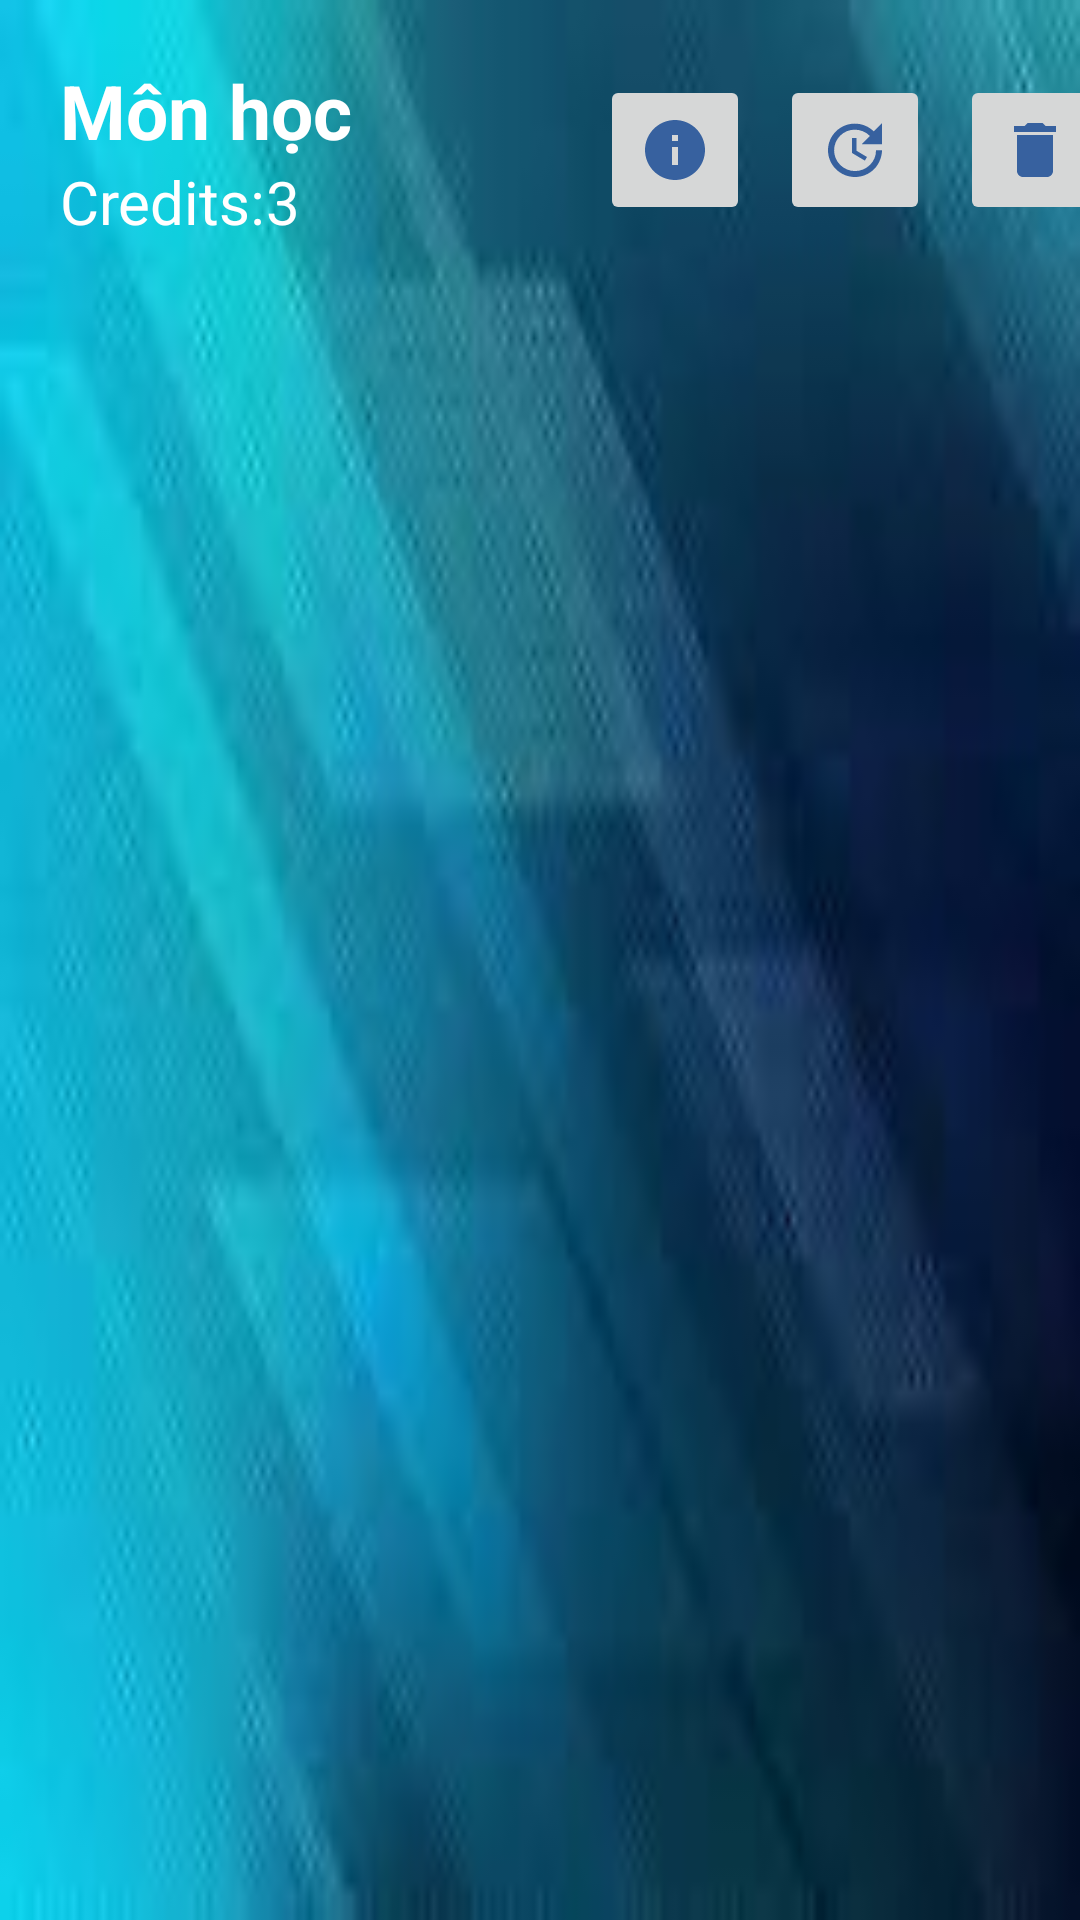

Point at icon controls on the screen. Image size 1080px x 1920px, points as [x,y].
info: [675,150]
update: [861,146]
